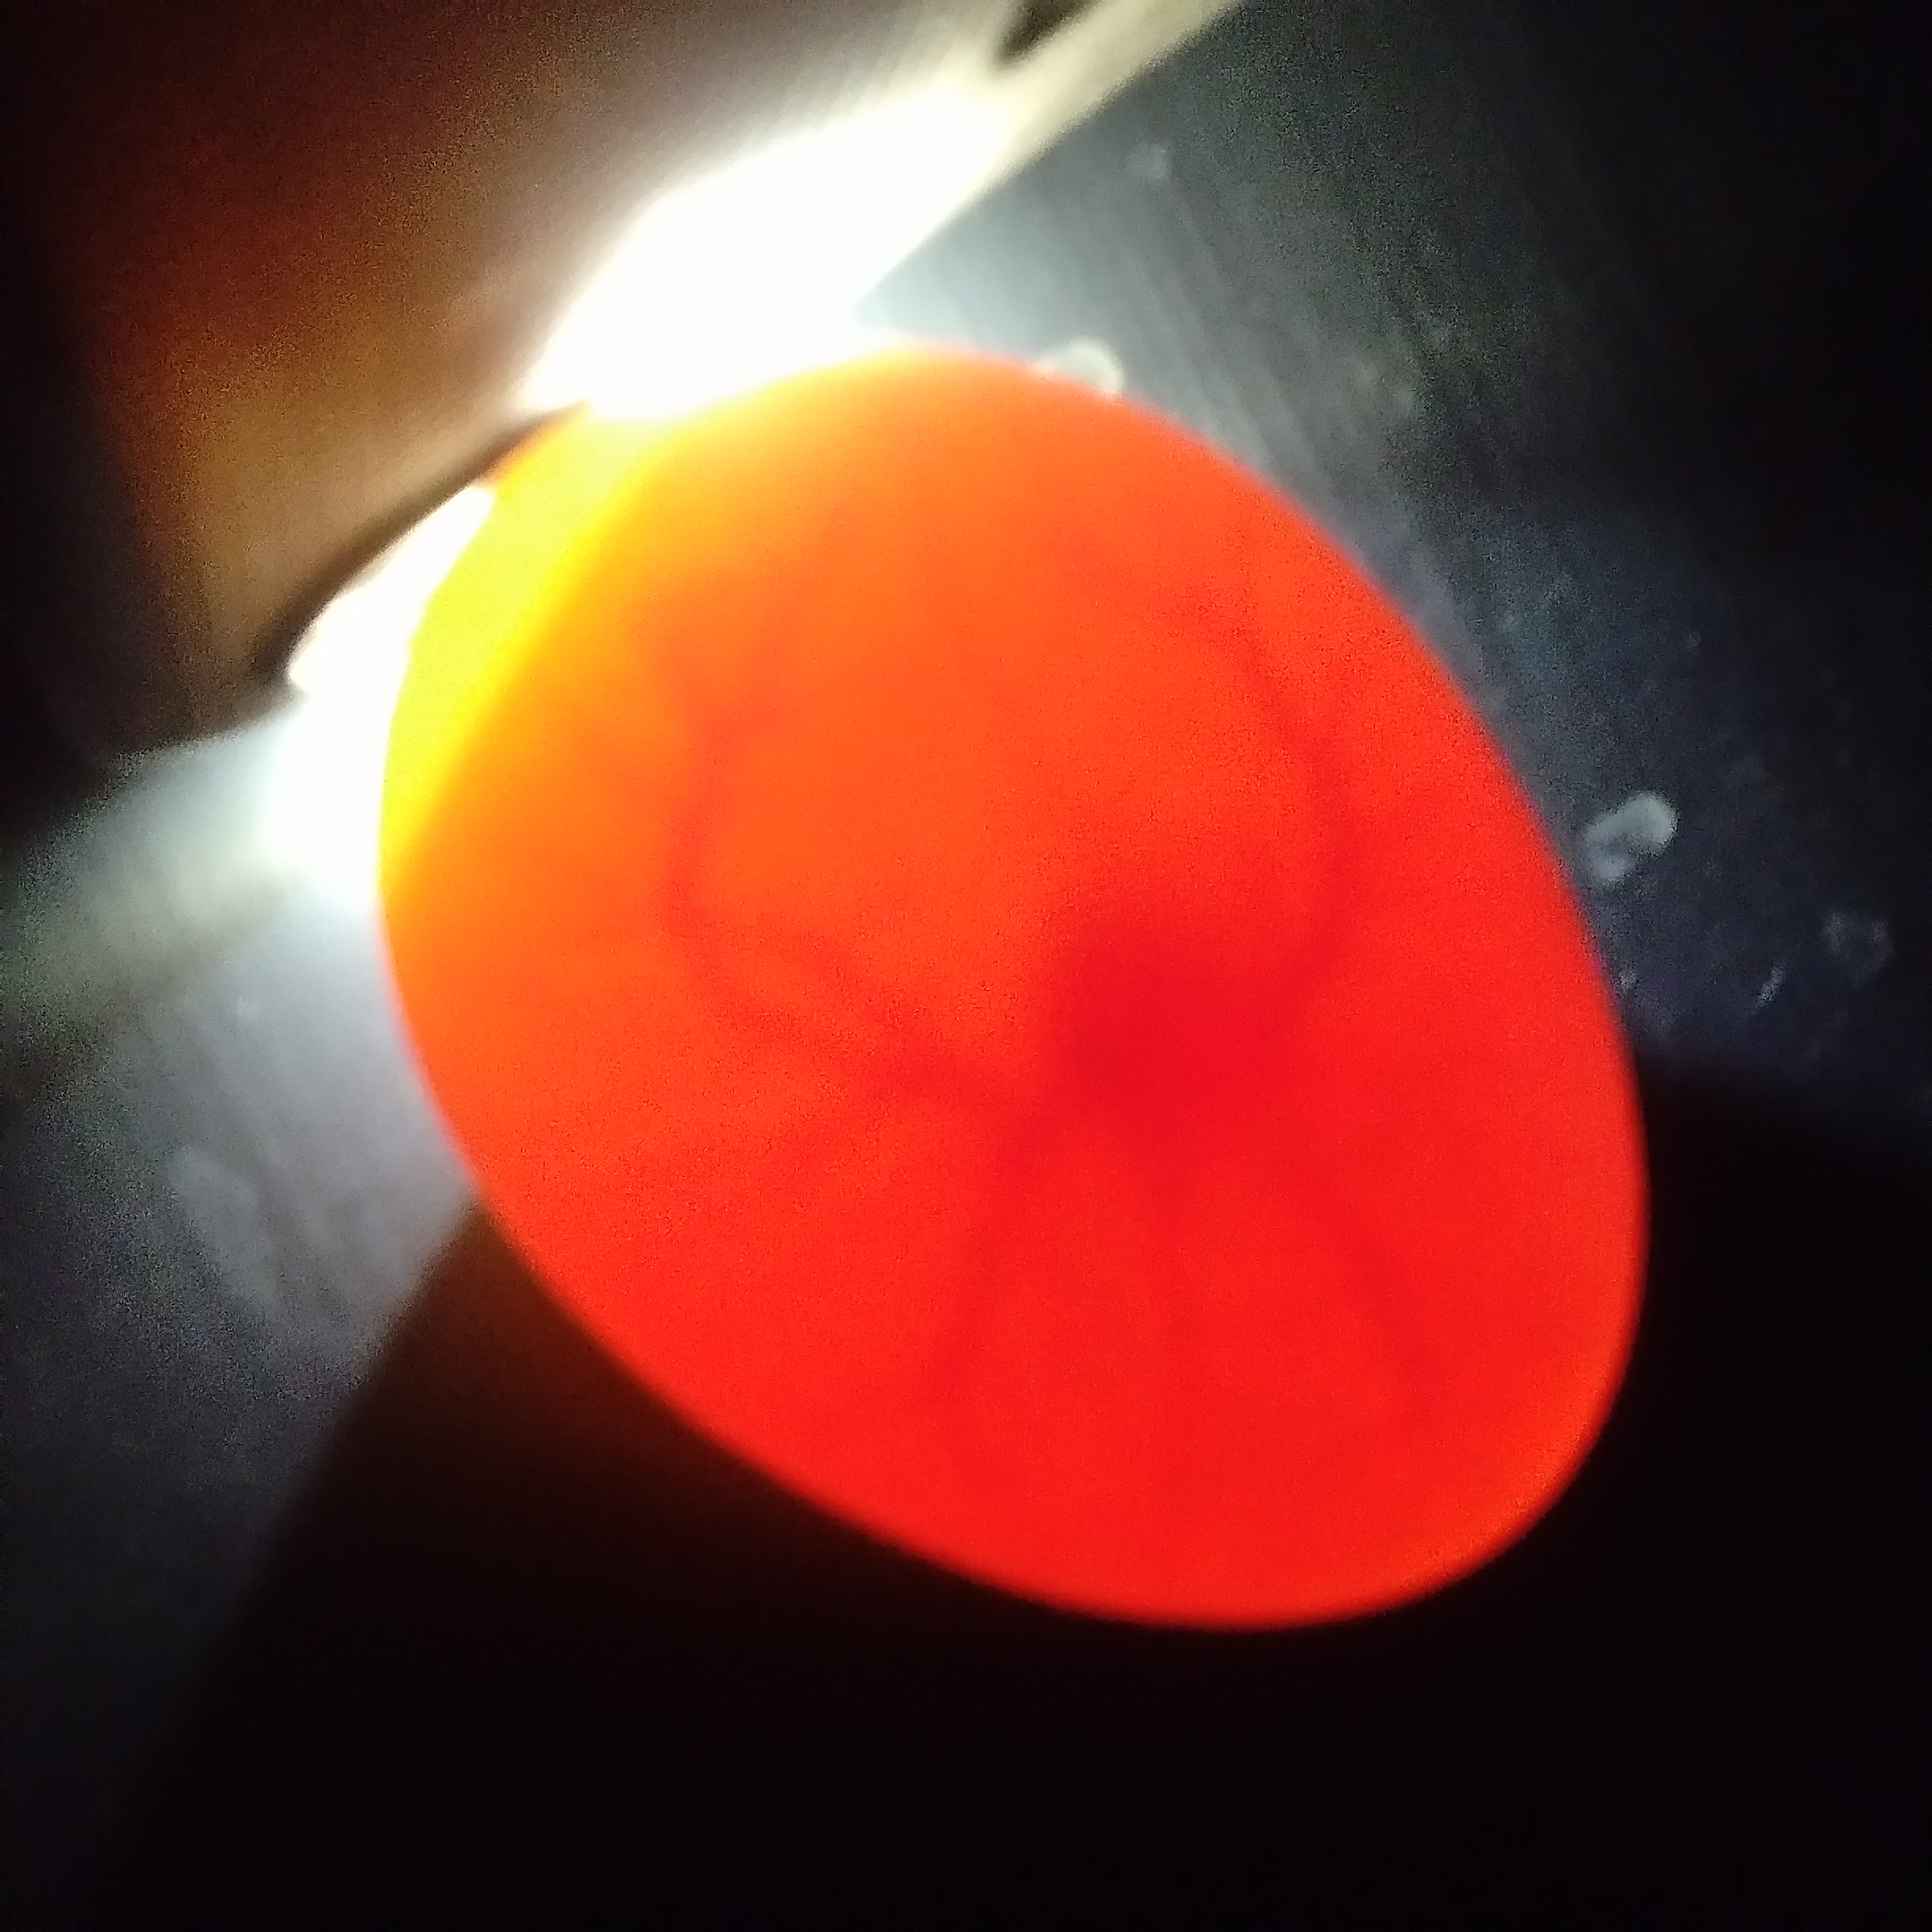bloodcell: (602, 619, 1001, 1302), (1047, 1207, 1552, 1545)
embryo: (1040, 888, 1260, 1145)
